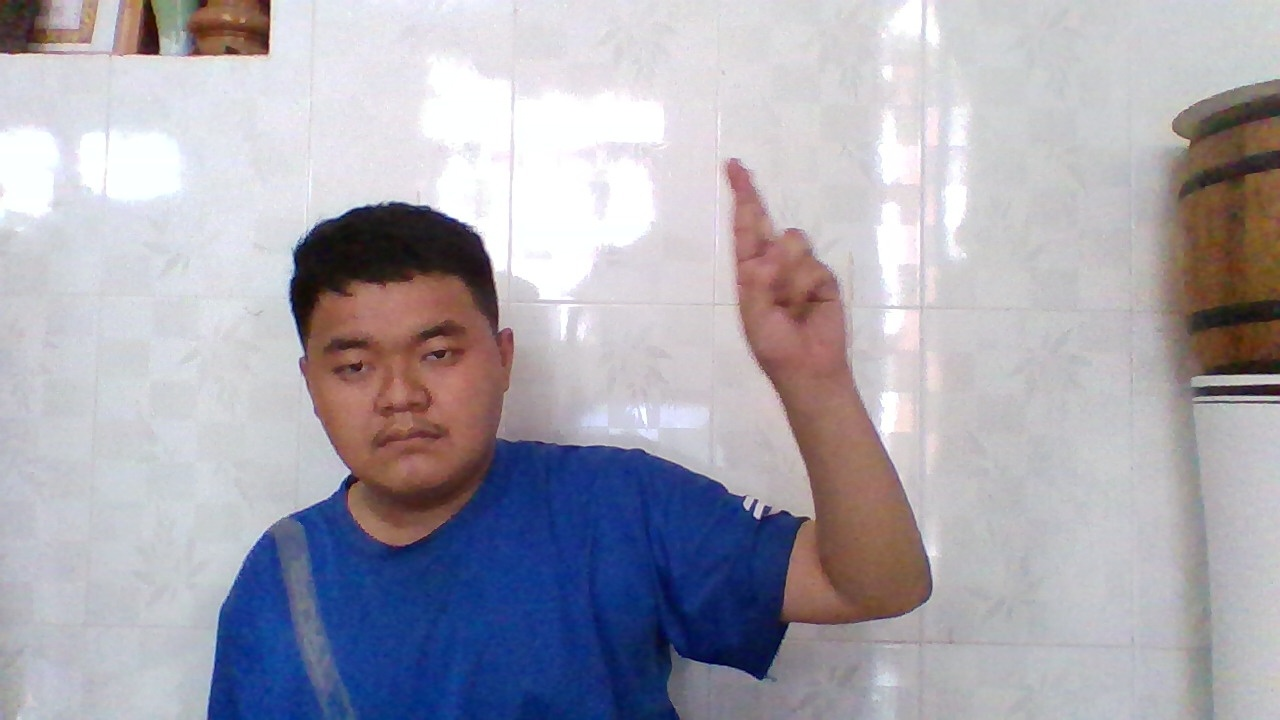R: (718, 154, 844, 386)
